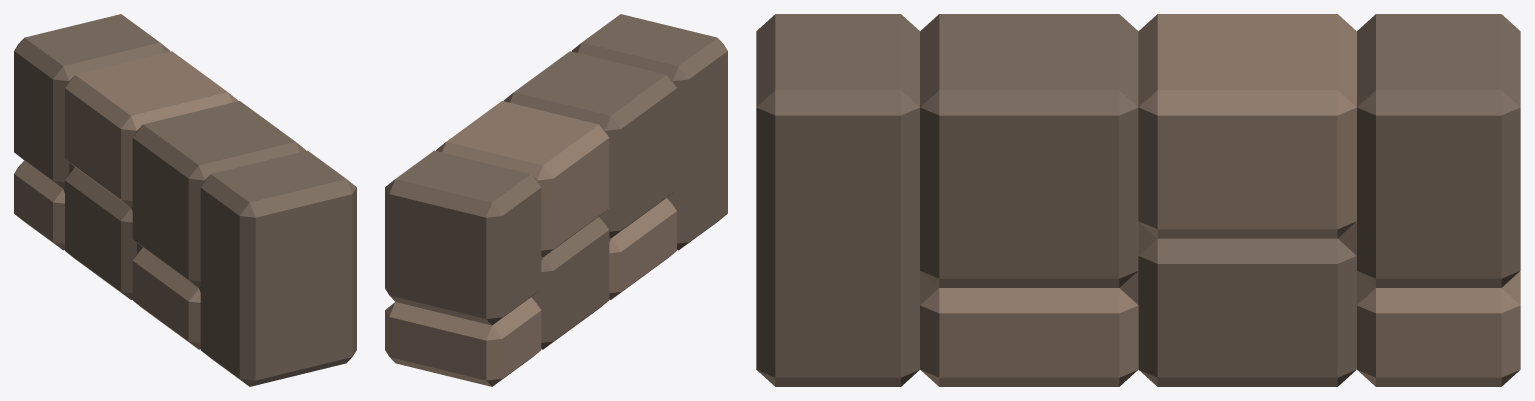
File: Stone_Curb_4.obj
3 renders of one model, left to right at view 1: azimuth 30°, elevation 25°; view 2: azimuth 150°, elevation 25°; view 3: azimuth 270°, elevation 25°, orthographic. The views are drawn at different scales.
Visible parts, largest first — view 1: object1; view 2: object1; view 3: object1.
Boxes of the visible parts, x1,y1,x2,y2 form: object1: [14, 14, 356, 386]; object1: [385, 14, 727, 386]; object1: [756, 14, 1520, 386].
Size of the model in its own units: 0.2 by 0.3 by 0.7.
